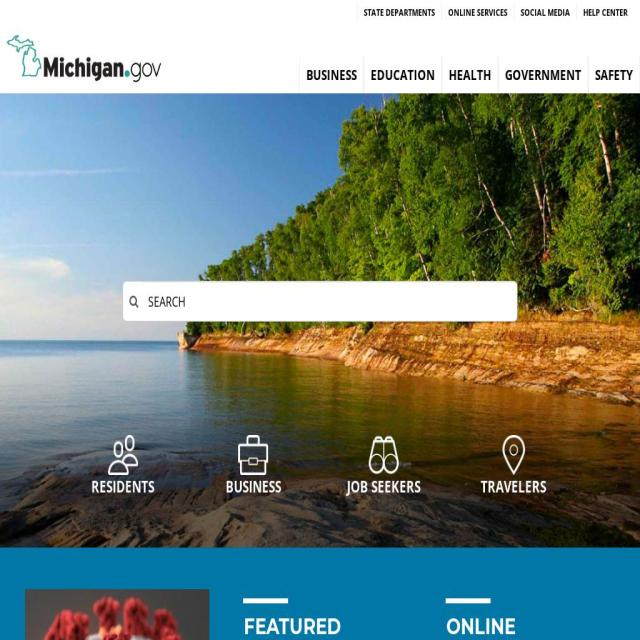button: (61, 418, 185, 515), (452, 418, 576, 515), (192, 418, 315, 515), (322, 418, 445, 515), (6, 33, 206, 85), (498, 57, 588, 93), (364, 57, 442, 93), (300, 57, 363, 93), (442, 57, 498, 93), (589, 57, 639, 93)
field: (142, 280, 518, 322)
heading: (446, 609, 600, 640), (243, 610, 397, 638)
image: (6, 33, 162, 85), (498, 435, 530, 476), (238, 435, 269, 476), (368, 435, 399, 476), (108, 435, 138, 476)
label: (140, 280, 152, 321)
link: (364, 6, 435, 18), (448, 6, 508, 18), (521, 6, 570, 18), (583, 6, 628, 18)
text: (346, 476, 421, 497), (481, 476, 547, 497), (91, 476, 155, 497), (225, 476, 281, 497)
